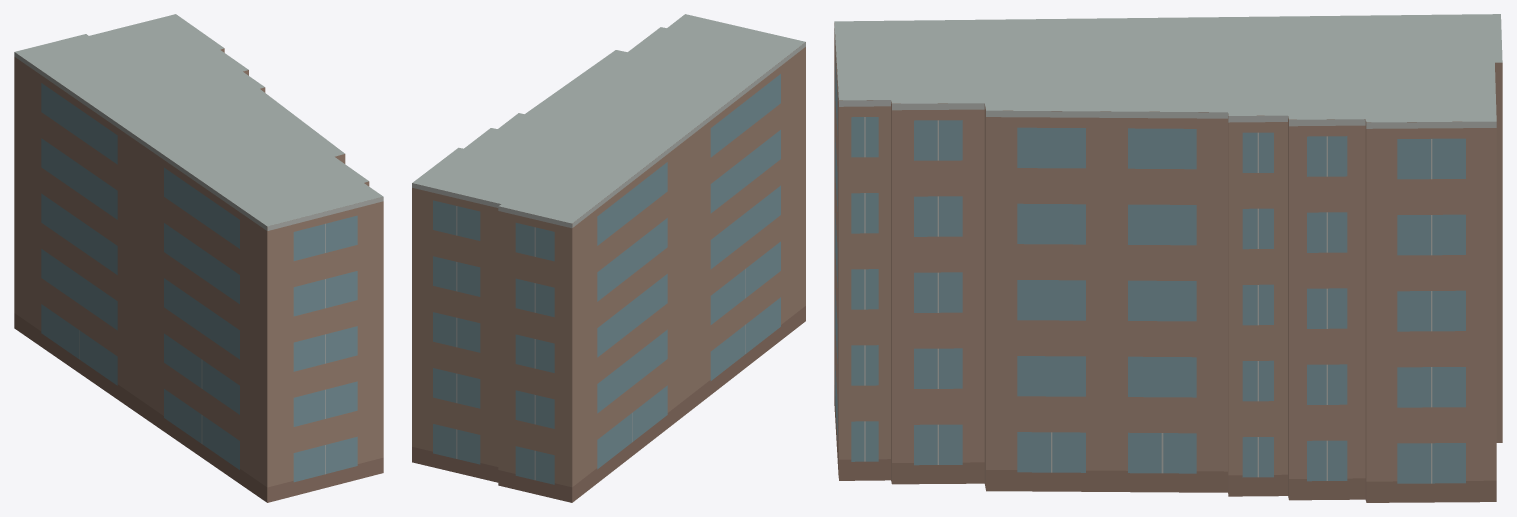
Rendered from survey-upis-32720503.glb.
3 renders of one model, left to right at view 1: azimuth 30°, elevation 25°; view 2: azimuth 150°, elevation 25°; view 3: azimuth 270°, elevation 25°, orthographic. The views are drawn at different scales.
Visible parts, largest first — view 1: survey-upis-32720503.tmp; view 2: survey-upis-32720503.tmp; view 3: survey-upis-32720503.tmp.
Part boxes in pixels (x1,y1,x2,y2): survey-upis-32720503.tmp: (14, 14, 383, 502); survey-upis-32720503.tmp: (412, 14, 805, 502); survey-upis-32720503.tmp: (834, 14, 1502, 502).
Size of the model in its own units: 8.81 by 14.4 by 22.93.
